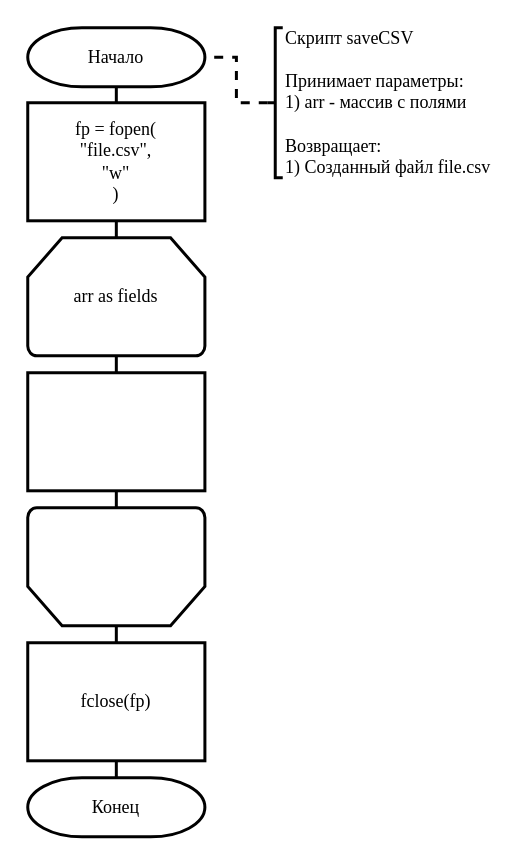
The diagram is 516 pixels wide and 864 high, and some of its shapes have lost their labels. Here are the shapes that lost their labels. From the top down, the box of each, then its label:
(26, 370, 206, 492): fputcsv(fp, fields)
(26, 506, 206, 627): Конец цикла
